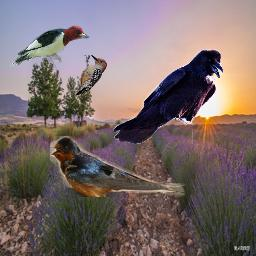Crow: (113, 49, 223, 144)
Swallow: (50, 136, 185, 197)
Woodpecker: (9, 22, 91, 70), (76, 55, 107, 95)
